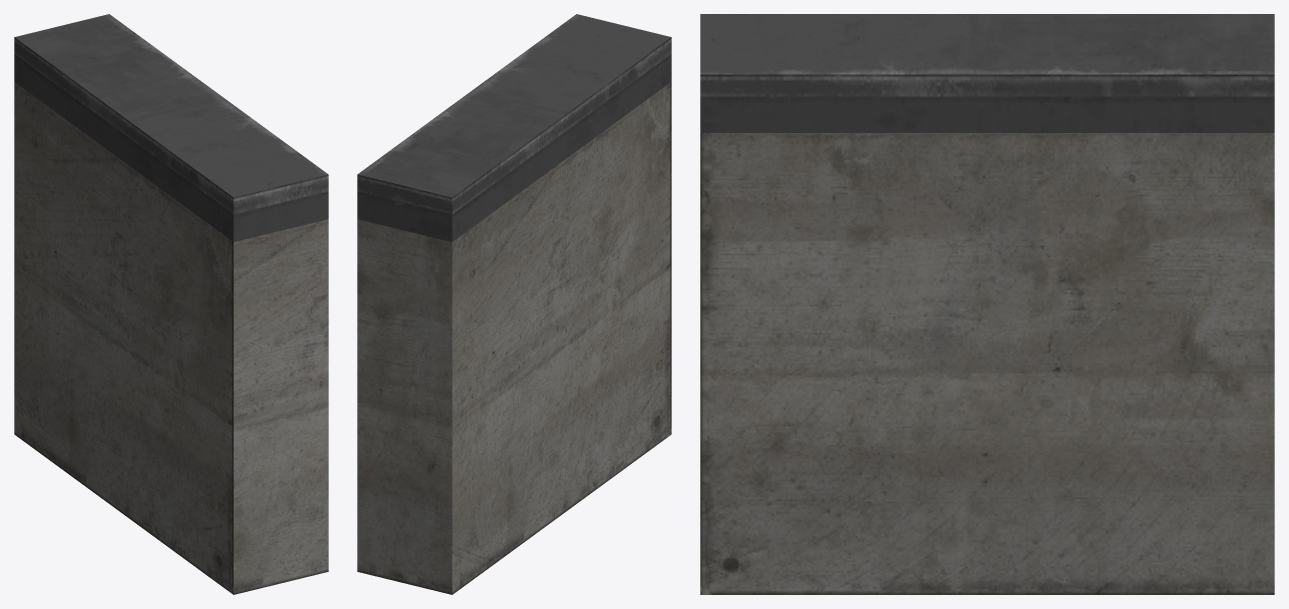
Rendered from CP_Parapet_F_1m.fbx.
3 renders of one model, left to right at view 1: azimuth 30°, elevation 25°; view 2: azimuth 150°, elevation 25°; view 3: azimuth 270°, elevation 25°, orthographic. The views are drawn at different scales.
Visible parts, largest first — view 1: CP_Parapet_F_1m; view 2: CP_Parapet_F_1m; view 3: CP_Parapet_F_1m.
Part boxes in pixels (box(x1,y1,x2,y2)): CP_Parapet_F_1m: box(14, 14, 328, 594); CP_Parapet_F_1m: box(357, 14, 671, 594); CP_Parapet_F_1m: box(700, 14, 1274, 594).
Bounding box in the file's own units: 25 × 100 × 100.
